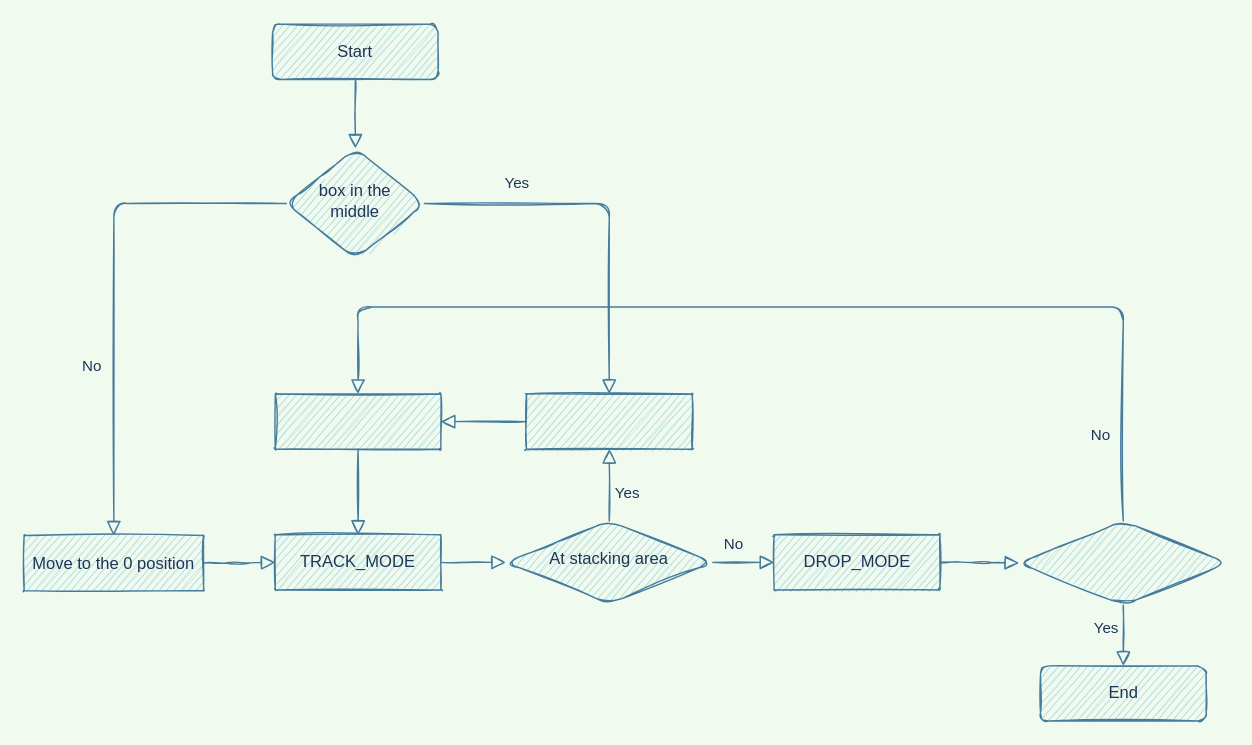
Some shapes in this 1252 by 745 pixel diagram are drawn without their labels. Here are the shapes that lost their labels. From the top down, the centre of each, then its label:
At point 357,421: "MOBILE_MODE".
At point 608,421: "LIFT_MODE".
At point 1123,562: "Finish transportation".
